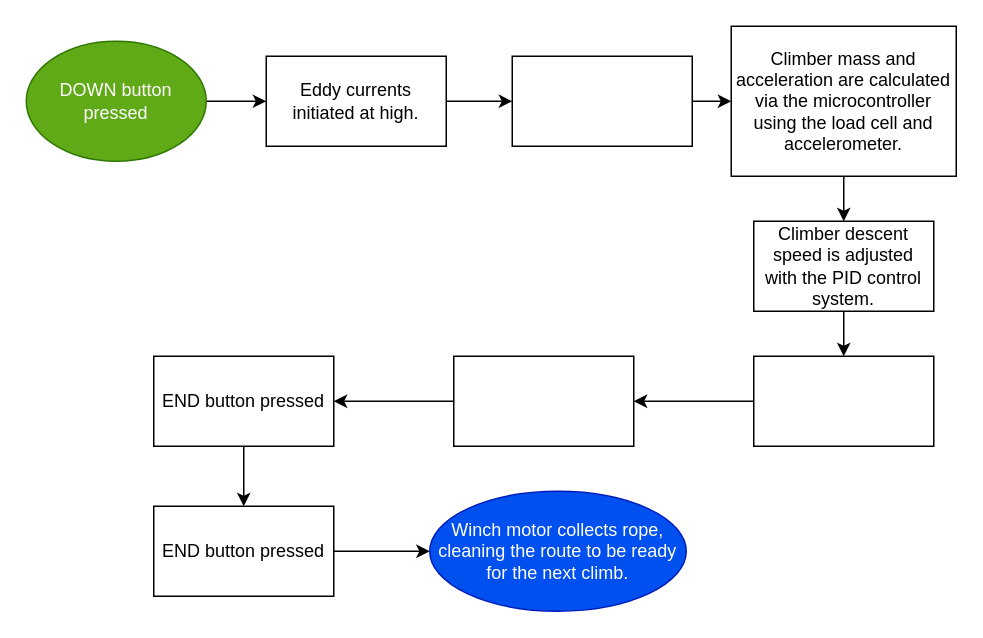
Some shapes in this 983 by 638 pixel diagram are drawn without their labels. Each missing label, with the centre of its shape:
"Climber begins to fall, very slowly." goes at (x=601, y=100).
"Climber reaches the ground softly." goes at (x=843, y=400).
"Climber unties harness knot, leaving the rope on the wall." goes at (x=543, y=400).
